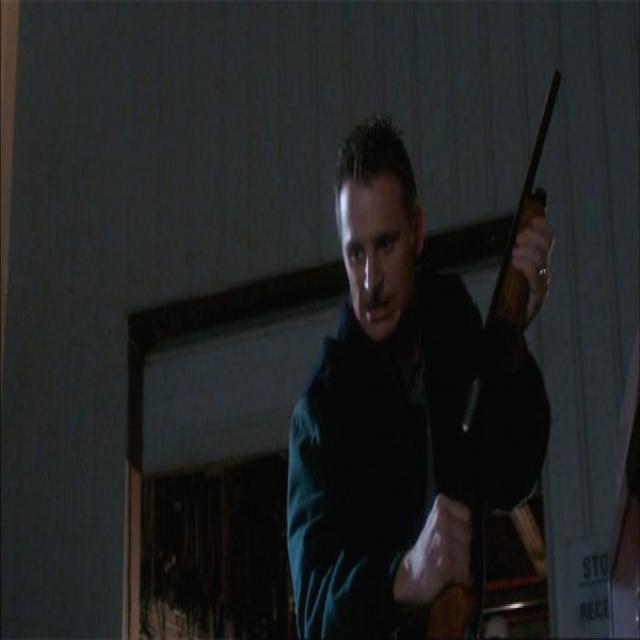rifle: (420, 61, 570, 640)
